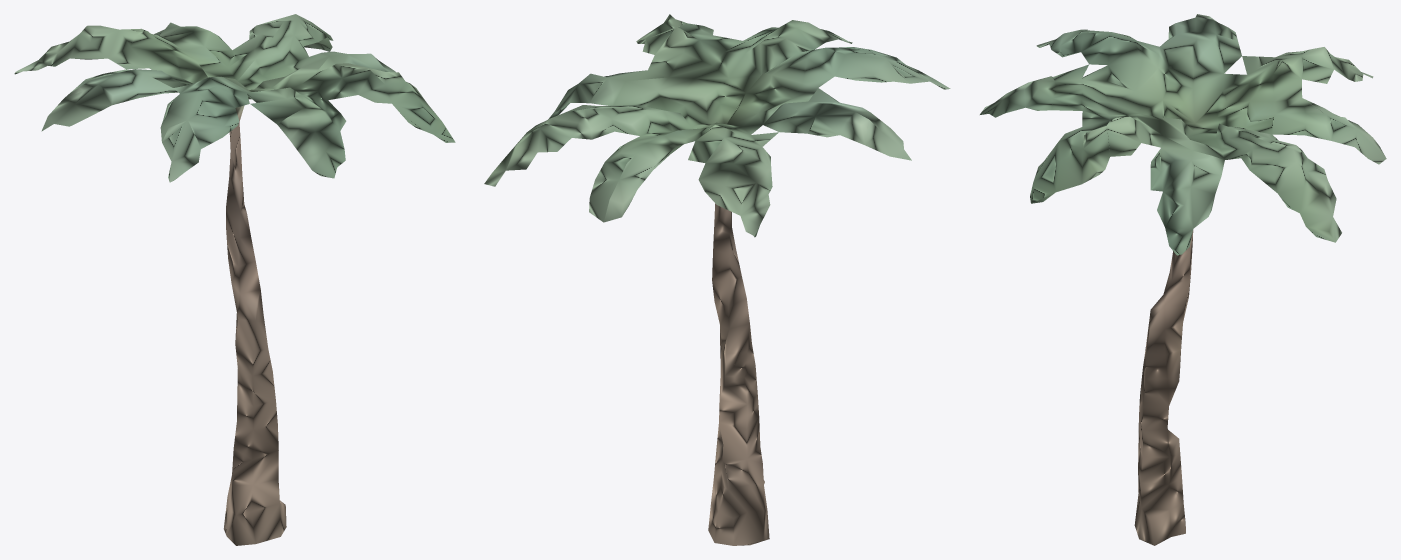
The model's file is arvore_palmeira.glb.
The picture shows the model from 3 angles, left to right: view 1: azimuth 30°, elevation 25°; view 2: azimuth 150°, elevation 25°; view 3: azimuth 270°, elevation 25°; orthographic projection. The views are drawn at different scales.
Size of the model in its own units: 6.46 by 8 by 6.36.
